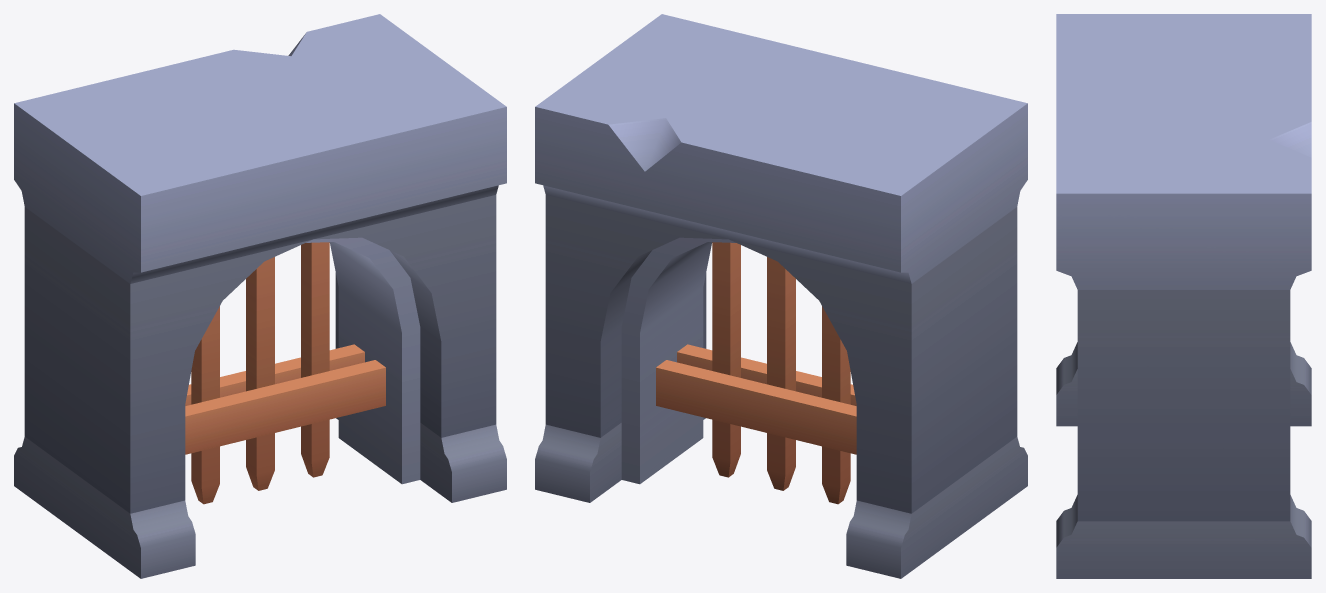
Rendered from kenney-mini-arena-wall-gate.glb.
The picture shows the model from 3 angles, left to right: view 1: azimuth 30°, elevation 25°; view 2: azimuth 150°, elevation 25°; view 3: azimuth 270°, elevation 25°; orthographic projection.
Parts seen in each view (by area): view 1: wall-gate, gate; view 2: wall-gate, gate; view 3: wall-gate.
Boxes of the visible parts, x1,y1,x2,y2 form: wall-gate: (14, 14, 506, 578); gate: (185, 242, 385, 504); wall-gate: (535, 14, 1027, 578); gate: (656, 242, 856, 504); wall-gate: (1056, 14, 1311, 578).
Bounding box in the file's own units: 1 × 1 × 0.6001.
1 material, 1 textured.
